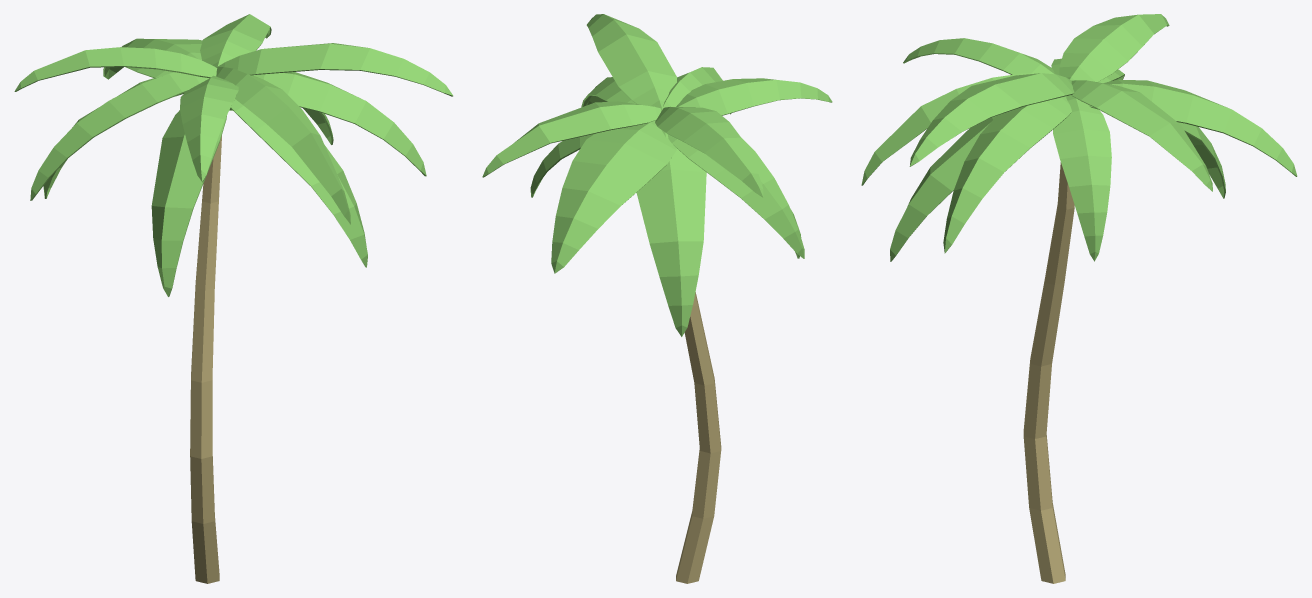
Rendered from palmtree.obj.
3 views of the same model, side by side, from view 1: azimuth 30°, elevation 25°; view 2: azimuth 150°, elevation 25°; view 3: azimuth 270°, elevation 25° (orthographic). The views are drawn at different scales.
Size of the model in its own units: 207 by 324 by 237.
